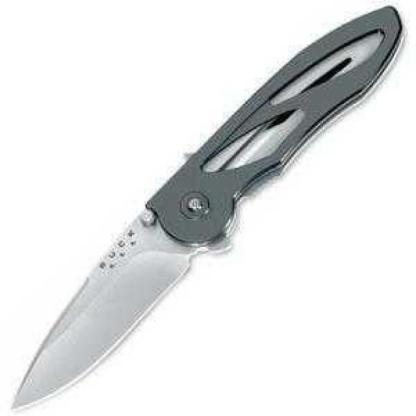Knife: (11, 2, 414, 416)
